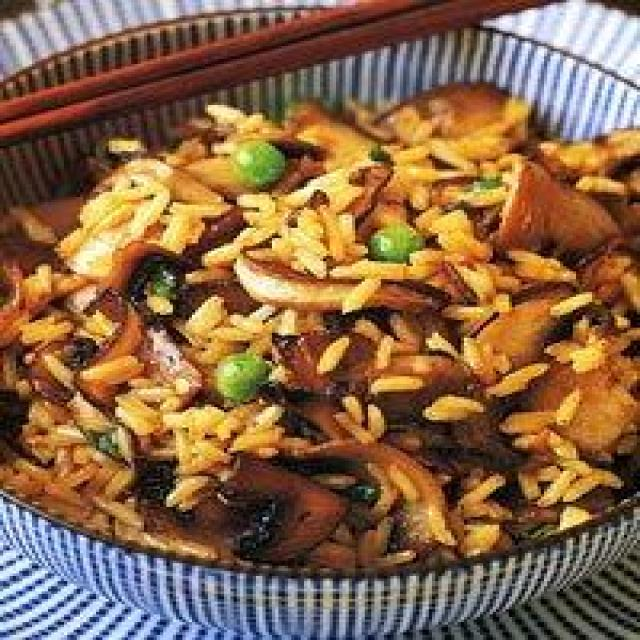Nasi Goreng: (0, 82, 637, 568)
